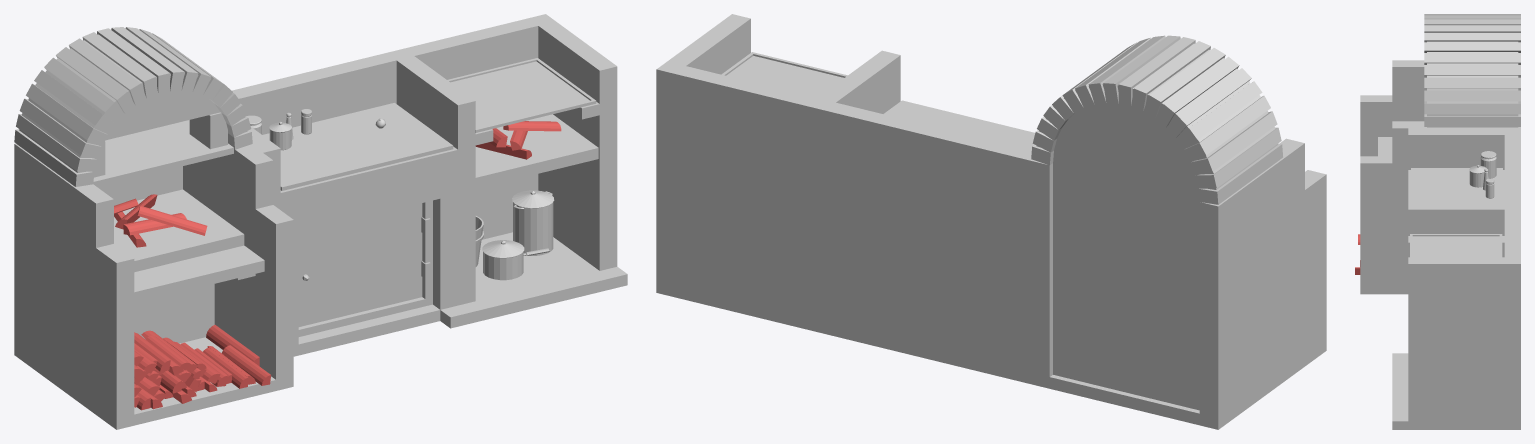
File: auto_export.glb
The picture shows the model from 3 angles, left to right: view 1: azimuth 30°, elevation 25°; view 2: azimuth 150°, elevation 25°; view 3: azimuth 270°, elevation 25°; orthographic projection. The views are drawn at different scales.
Visible parts, largest first — view 1: Cube.229, Cylinder.026, Cube.265, Cube.270, Cube.277, Cube.233, Cube.263, Cube.281, Cube.266, Cube.235, Cube.274, Cube.230 (+22 smaller); view 2: Cube.265, Cube.256, Cube.229, Cylinder.026, stove_top, Cube.230, Cube.228, Cube.233, Cube.268, Cube.270, Cube.281, Cube.274 (+4 smaller); view 3: Cube.270, Cylinder.026, Cube.233, Cube.265, Cube.264, Cube.268, Cube.281, Cube.229, Cube.266, Cube.274, Cylinder.070, Cube.230 (+8 smaller).
Boxes of the visible parts, <box> form: Cube.229: <box>14,188,134,418</box>; Cylinder.026: <box>14,27,252,186</box>; Cube.265: <box>232,14,555,239</box>; Cube.270: <box>538,21,617,270</box>; Cube.277: <box>298,203,422,326</box>; Cube.233: <box>183,163,293,379</box>; Cube.263: <box>273,145,475,234</box>; Cube.281: <box>263,103,453,190</box>; Cube.266: <box>440,232,627,328</box>; Cube.235: <box>114,189,244,272</box>; Cube.274: <box>450,61,589,128</box>; Cube.230: <box>14,143,113,247</box>; Cube.265: <box>656,61,1031,372</box>; Cube.256: <box>1053,163,1199,410</box>; Cube.229: <box>1199,170,1326,417</box>; Cylinder.026: <box>1031,35,1282,204</box>; stove_top: <box>1053,103,1199,198</box>; Cube.230: <box>1199,138,1304,253</box>; Cube.228: <box>1031,339,1326,429</box>; Cube.233: <box>1031,208,1052,376</box>; Cube.268: <box>817,50,900,113</box>; Cube.270: <box>667,14,750,74</box>; Cube.281: <box>883,100,1035,148</box>; Cube.274: <box>726,56,843,97</box>; Cube.270: <box>1408,257,1504,421</box>; Cylinder.026: <box>1424,14,1520,126</box>; Cube.233: <box>1360,156,1408,285</box>; Cube.265: <box>1504,128,1520,421</box>; Cube.264: <box>1408,128,1504,169</box>; Cube.268: <box>1408,203,1504,235</box>; Cube.281: <box>1411,168,1502,202</box>; Cube.229: <box>1360,95,1424,156</box>; Cube.266: <box>1392,353,1520,429</box>; Cube.274: <box>1412,236,1499,257</box>; Cylinder.070: <box>1427,41,1518,127</box>; Cube.230: <box>1392,60,1424,101</box>.
Bounding box in the file's own units: 3 × 1.64 × 1.03.
